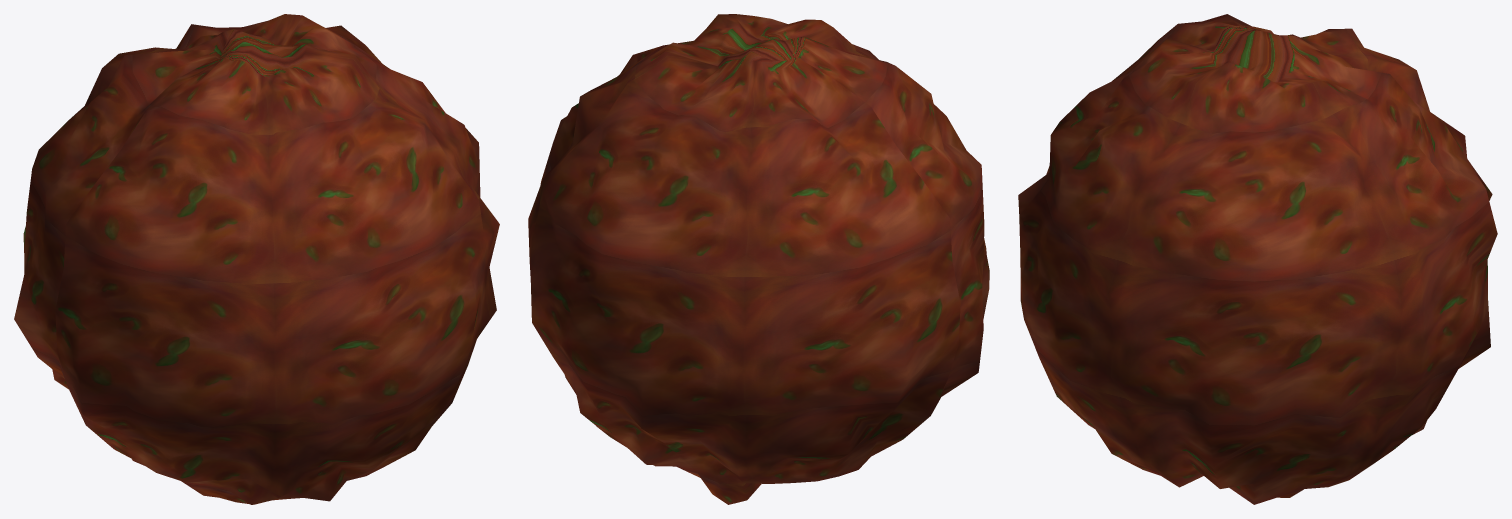
File: PlayerModel.fbx
3 renders of one model, left to right at view 1: azimuth 30°, elevation 25°; view 2: azimuth 150°, elevation 25°; view 3: azimuth 270°, elevation 25°, orthographic.
Visible parts, largest first — view 1: Almondega1; view 2: Almondega1; view 3: Almondega1.
Boxes of the visible parts, box(x1,y1,x2,y2) form: Almondega1: box(14, 14, 499, 504); Almondega1: box(528, 14, 989, 504); Almondega1: box(1018, 14, 1497, 504).
Bounding box in the file's own units: 206 × 215 × 212.
Materials: 1 (1 with a texture image).
